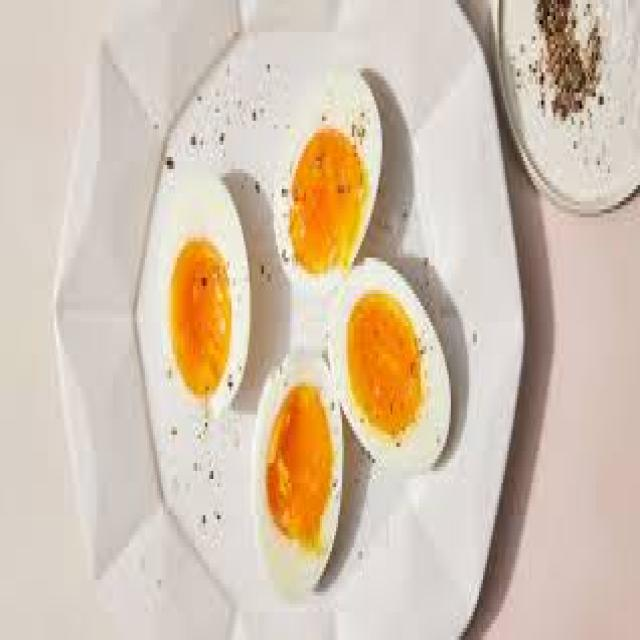boiled egg: (170, 95, 444, 628)
